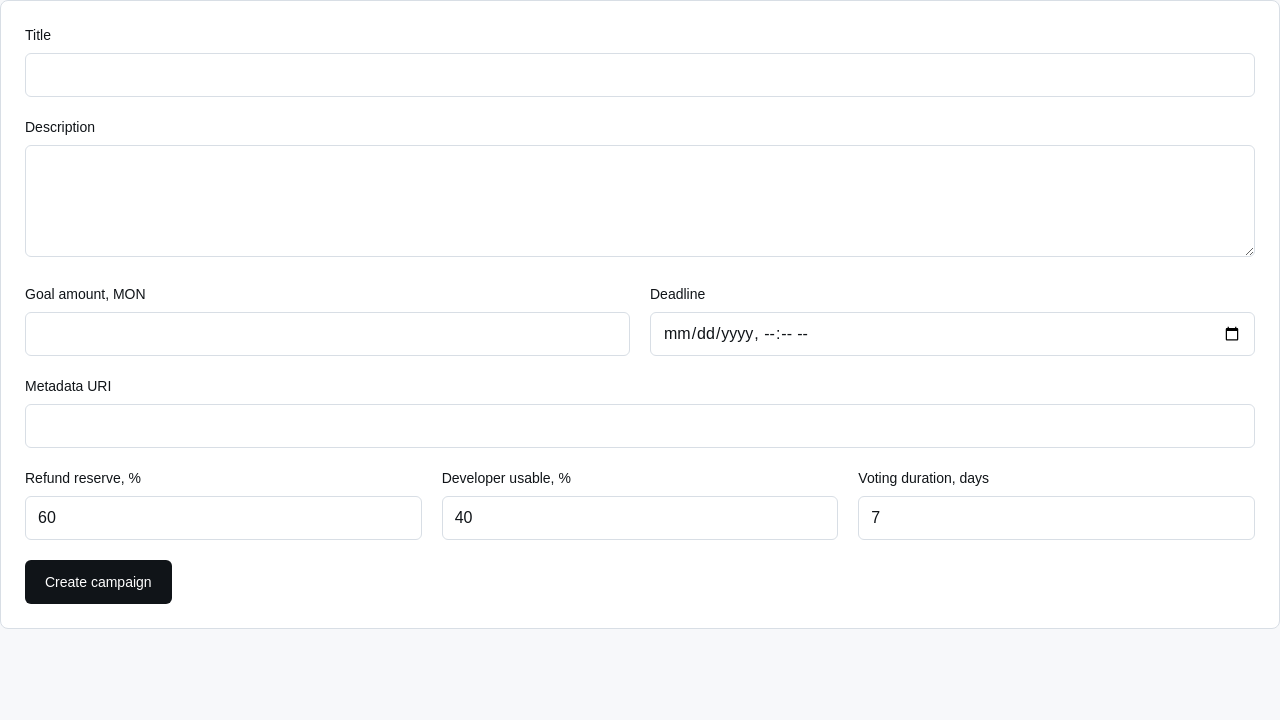
CreateCampaignForm › validates empty fields
Click the button "Create campaign" at (98, 582), box [25, 560, 172, 604]
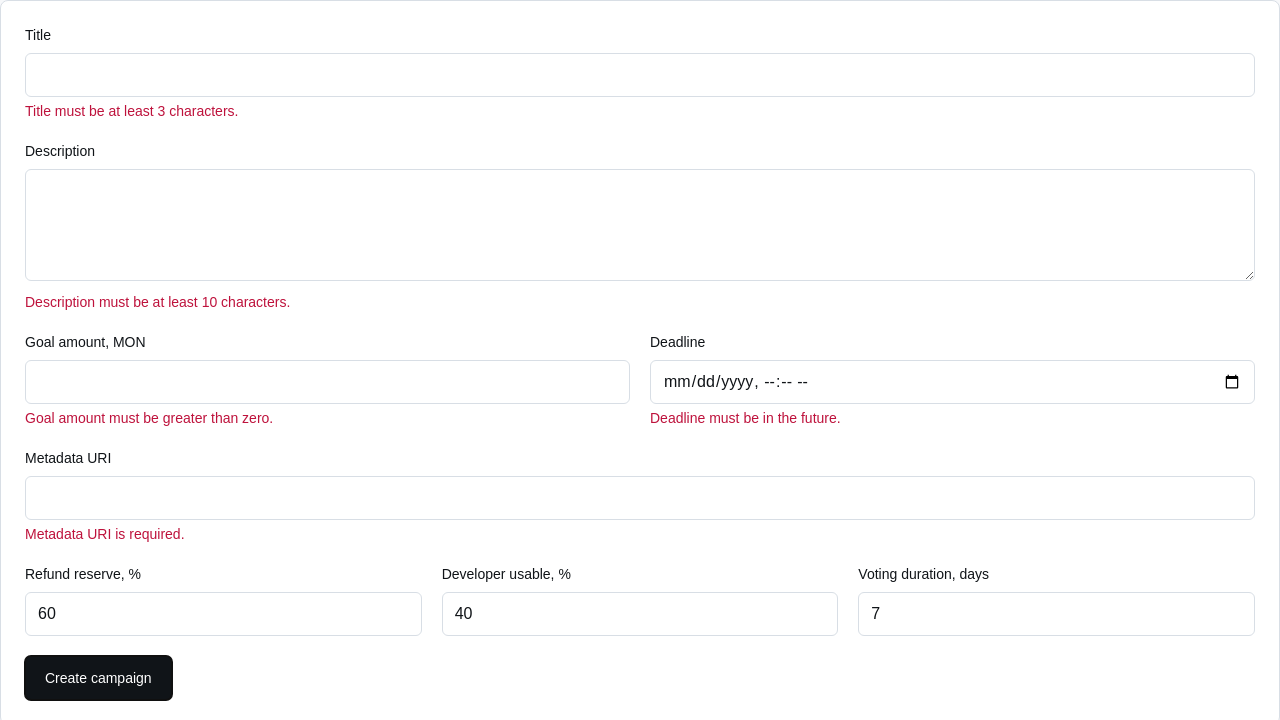
expect the text "Title must be at least 3 characters." is shown: met, box [25, 103, 238, 119]
expect the text "Description must be at least 10 characters." is shown: met, box [25, 294, 290, 310]
